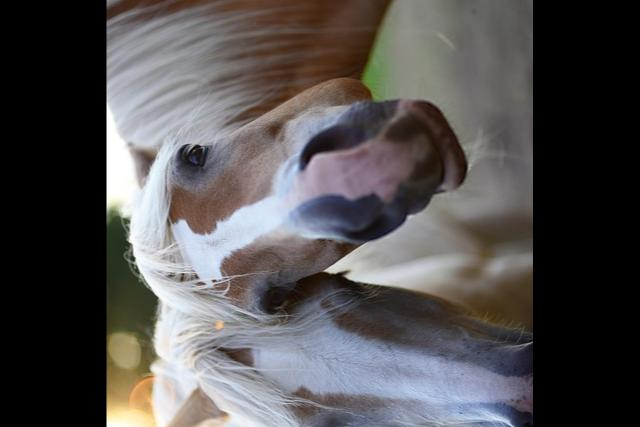Non_Gorille: (135, 16, 517, 427)
